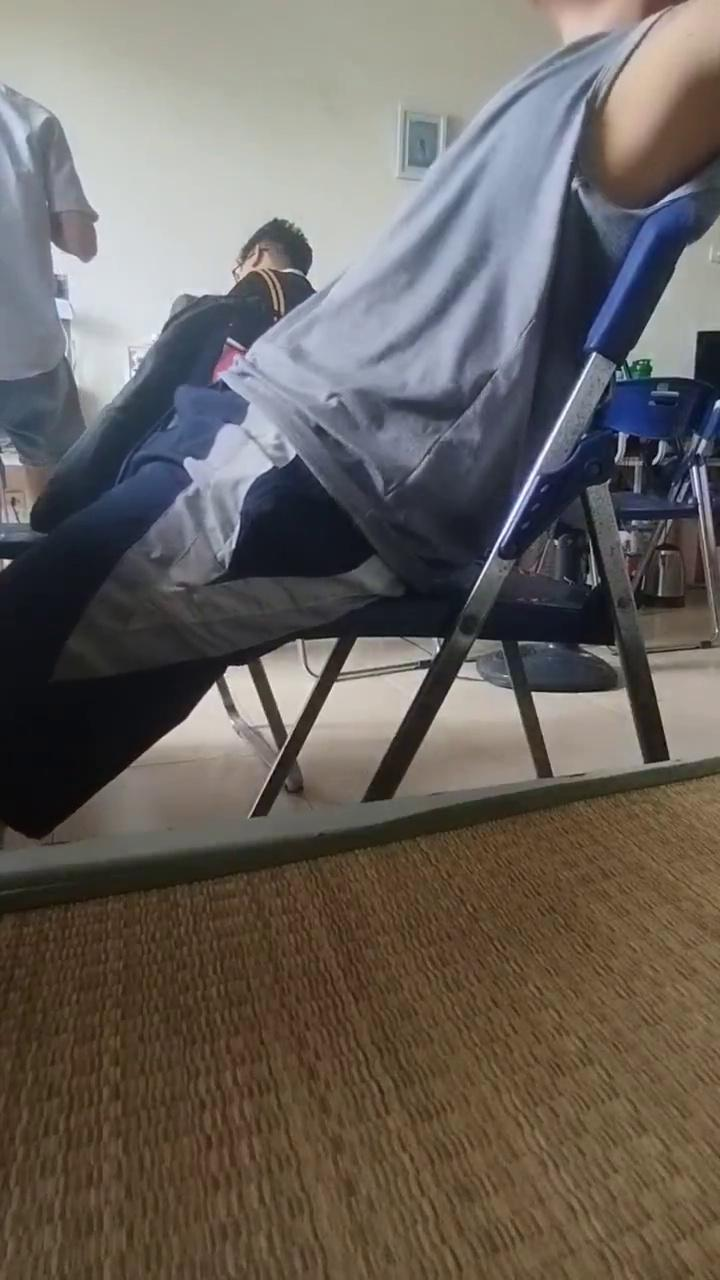BadPosture: (0, 0, 719, 839)
